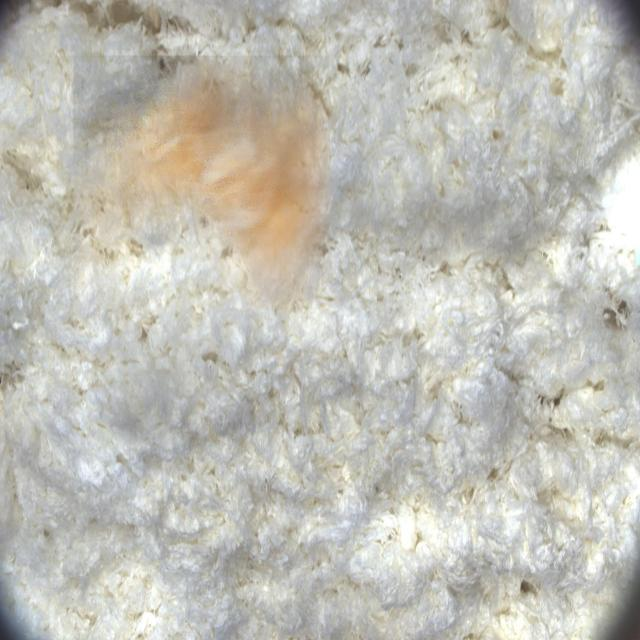dust: (74, 56, 330, 310)
